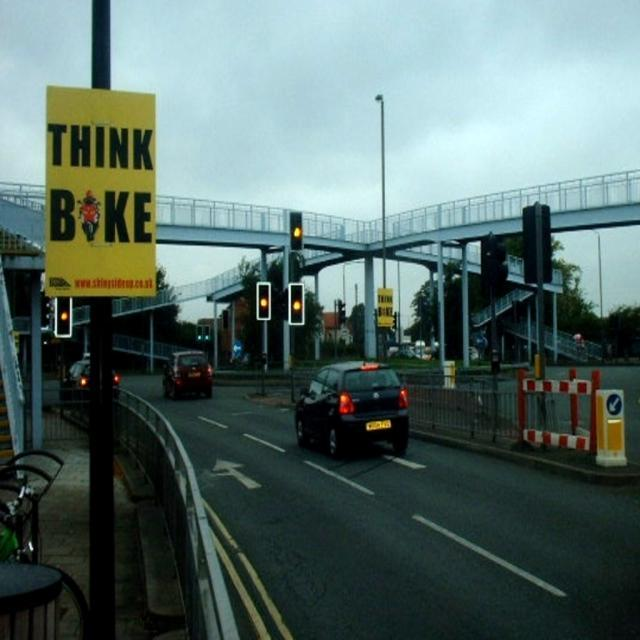traffic light: (258, 281, 272, 318), (291, 283, 304, 321), (291, 214, 303, 250)
